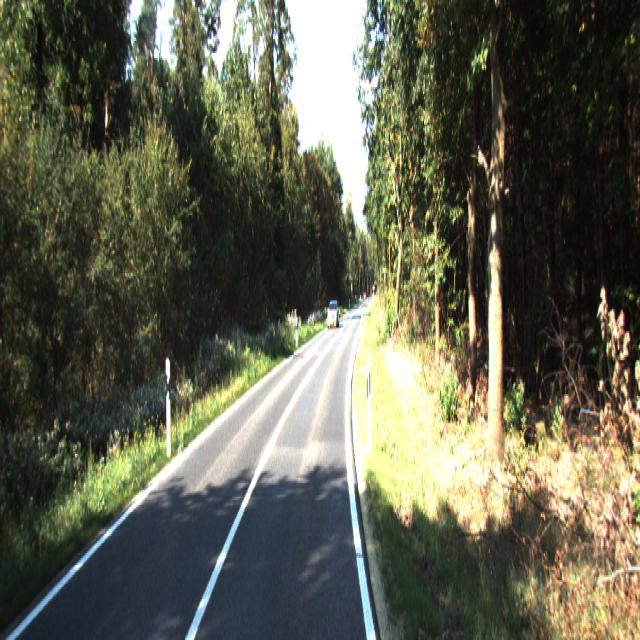Car: (326, 300, 341, 330)
